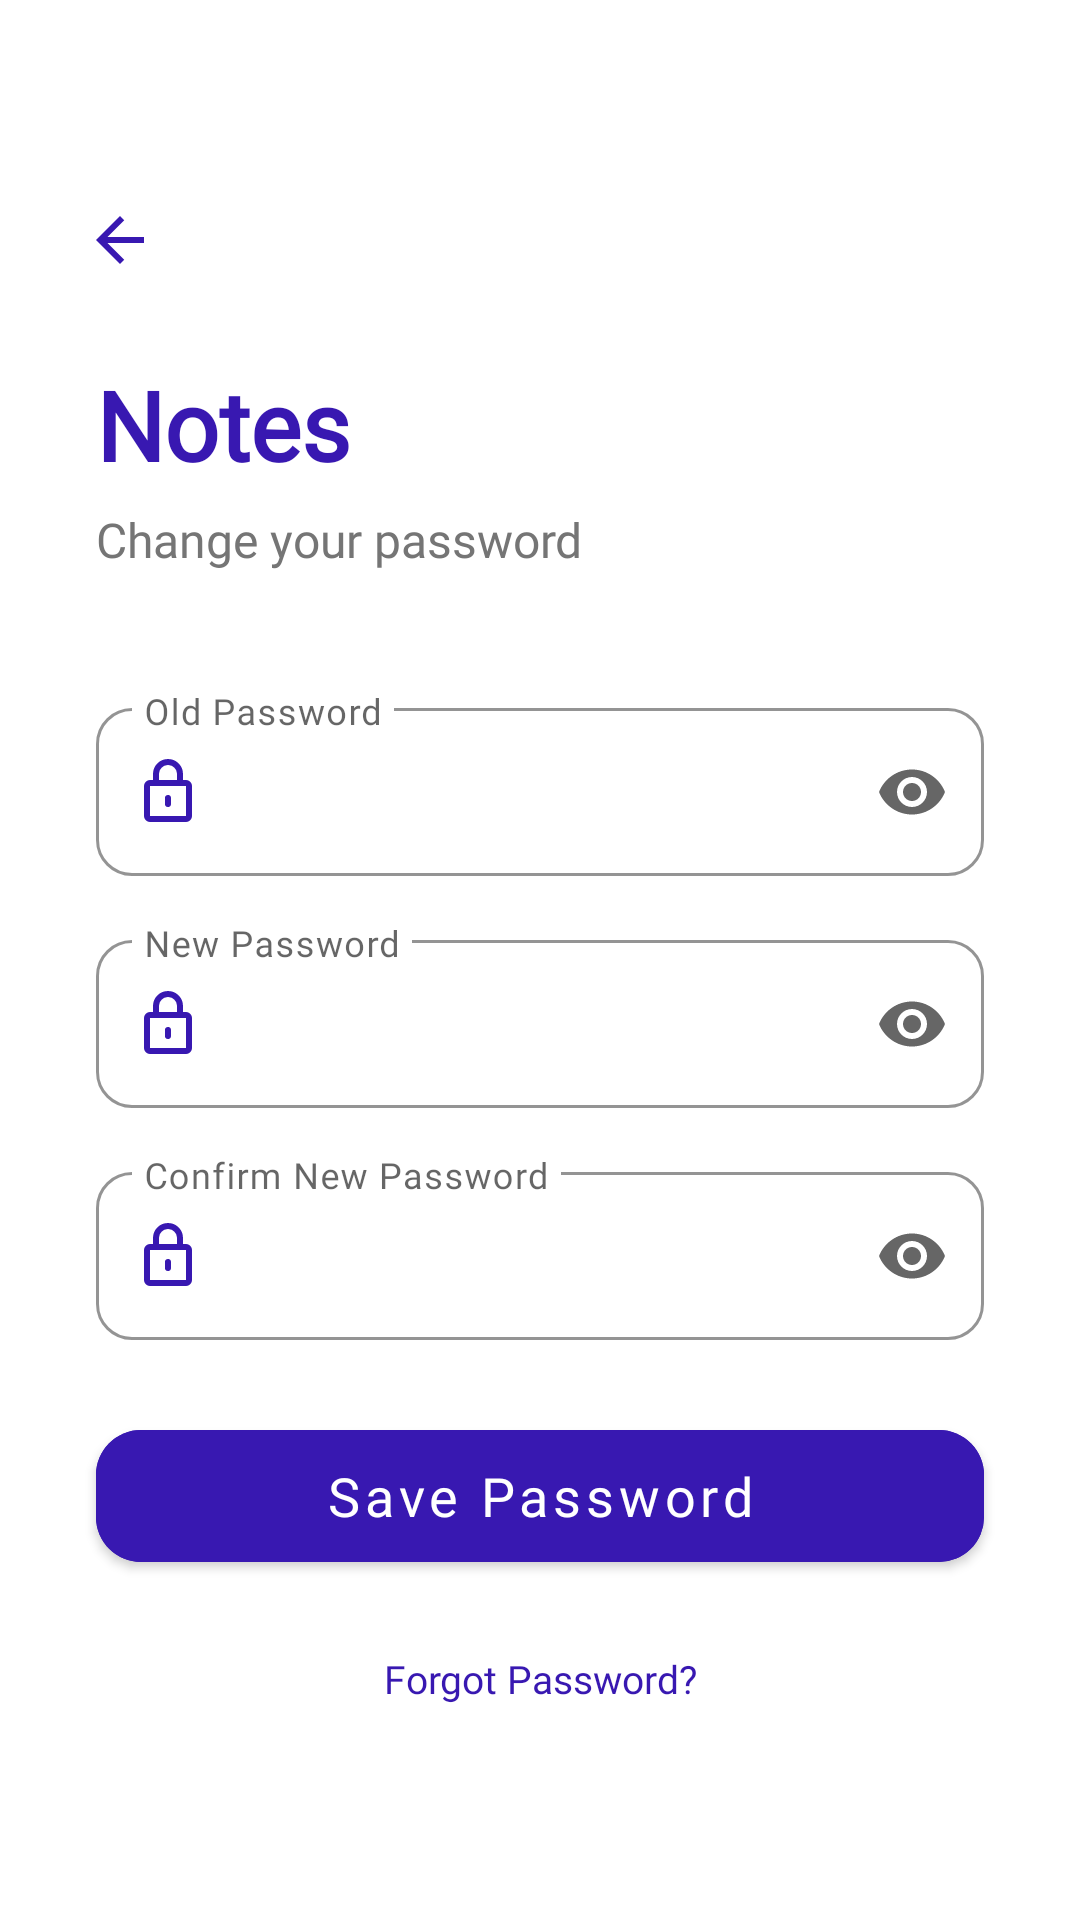

Where to tap for icons on this 1080*1920 app screen, as [x,y]:
back: [120,240]
